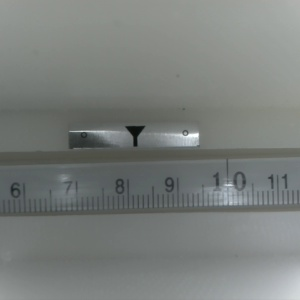0: (233, 172, 246, 190)
1: (212, 172, 220, 189), (267, 174, 274, 189), (281, 174, 287, 189)
6: (10, 182, 20, 198)
7: (62, 179, 72, 194)
8: (114, 178, 123, 193)
9: (164, 176, 174, 192)
finger: (123, 126, 145, 149)
